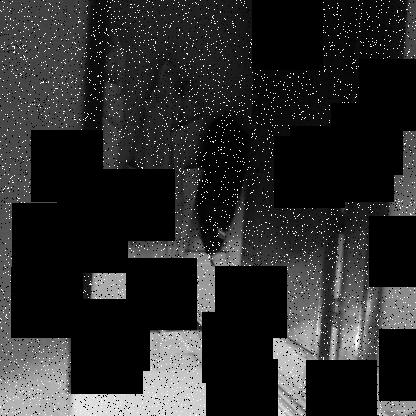Porte: (65, 1, 411, 396)
